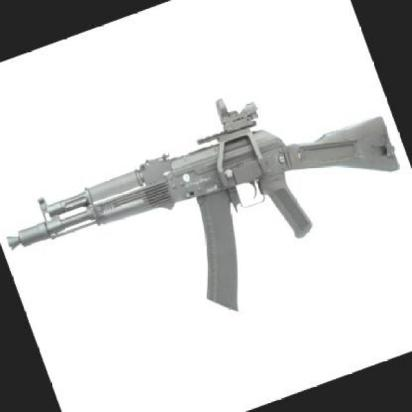Gun: (0, 99, 409, 322)
